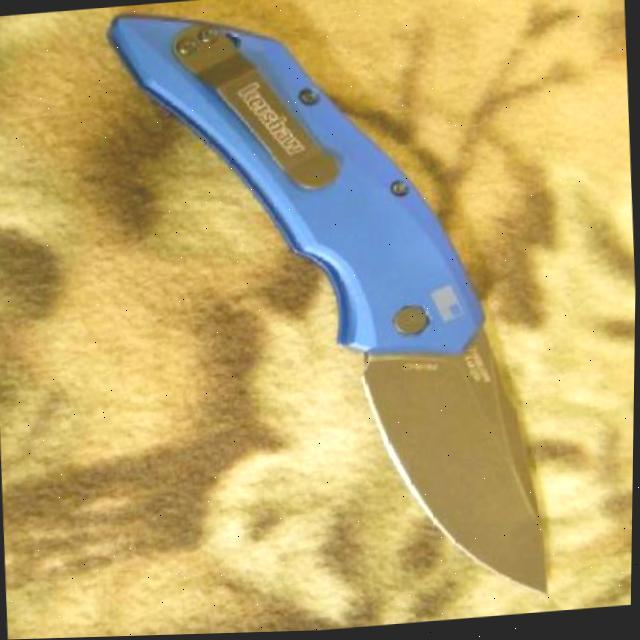knife: (94, 0, 558, 630)
